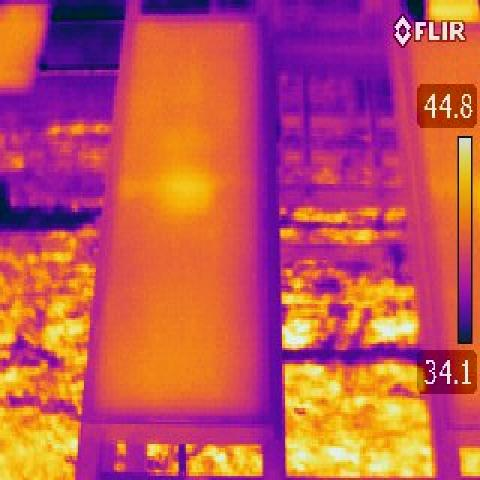fault: (121, 164, 233, 226)
